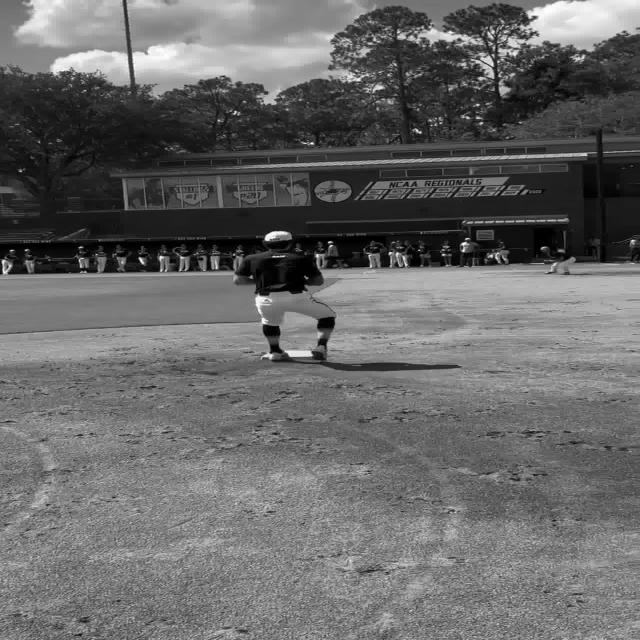base: (284, 350, 320, 362), (260, 356, 267, 360)
shoe: (262, 351, 291, 361), (311, 345, 327, 361)
